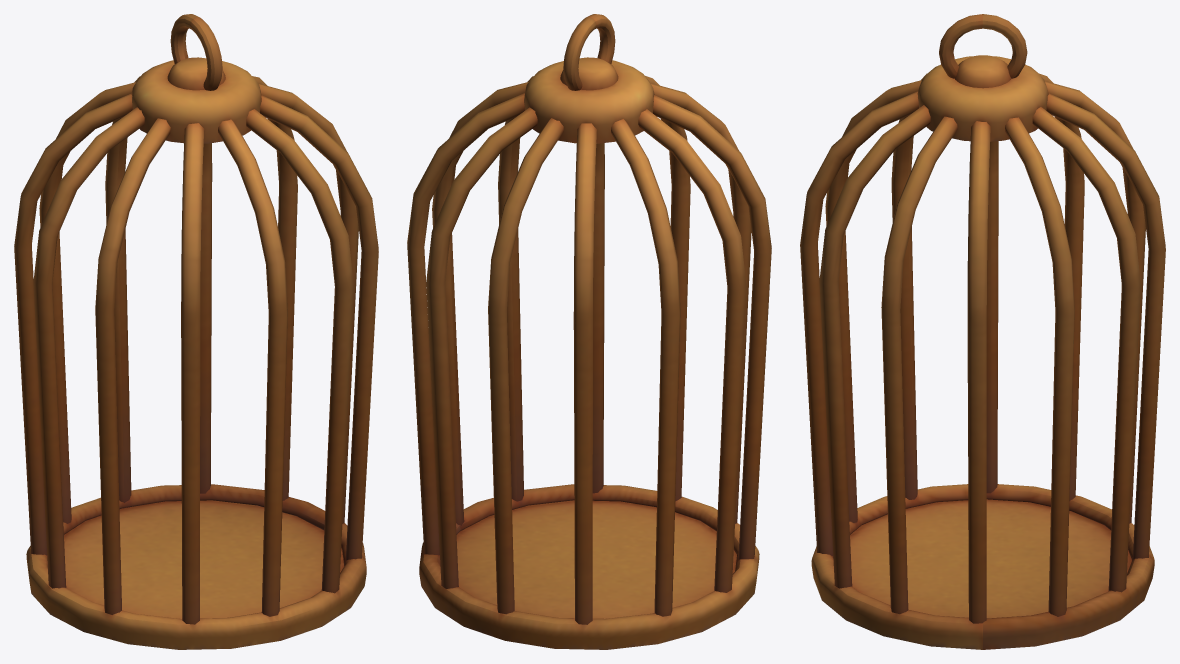
Rendered from SM_BirdCage.fbx.
3 renders of one model, left to right at view 1: azimuth 30°, elevation 25°; view 2: azimuth 150°, elevation 25°; view 3: azimuth 270°, elevation 25°, orthographic.
Parts seen in each view (by area): view 1: SM_BirdCage_LOD0; view 2: SM_BirdCage_LOD0; view 3: SM_BirdCage_LOD0.
Boxes of the visible parts, x1=… form: SM_BirdCage_LOD0: x1=14, y1=14, x2=378, y2=649; SM_BirdCage_LOD0: x1=407, y1=14, x2=771, y2=649; SM_BirdCage_LOD0: x1=800, y1=14, x2=1165, y2=649.
Size of the model in its own units: 38.2 by 38.2 by 65.07.
1 material, 1 textured.
